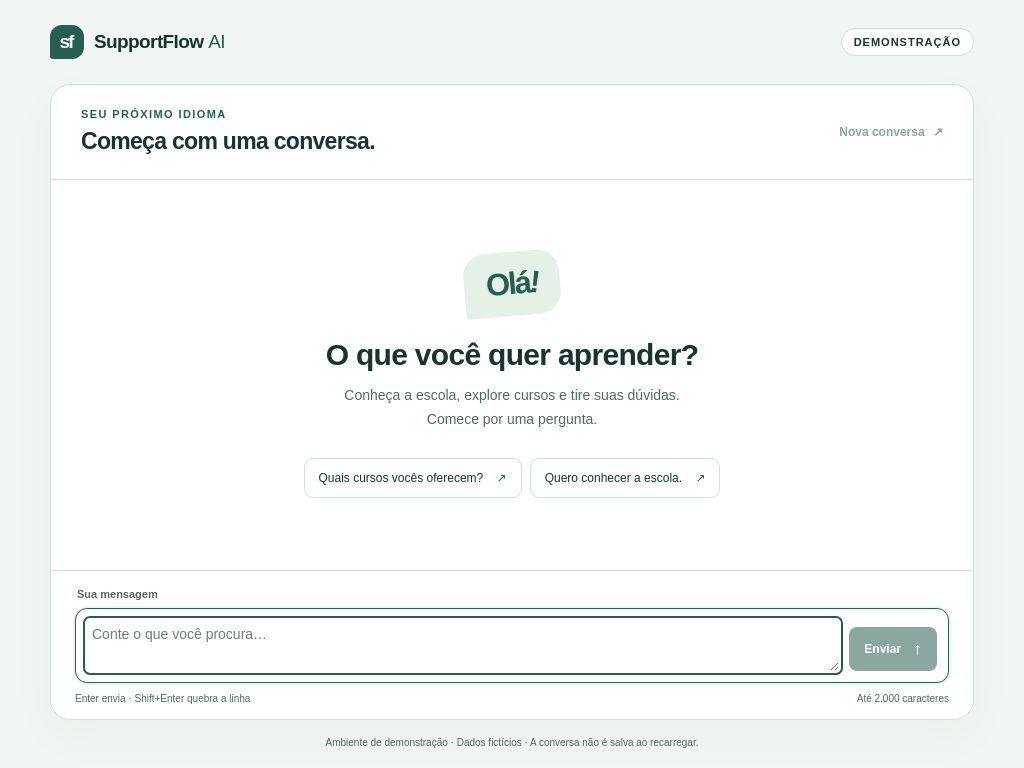
Test: chat da escola › bloqueia botão, campo, nova conversa e submits simultâneos durante processamento
Step 1. Type "Olá" into the text box labelled "Sua mensagem" → (463, 646), box [87, 620, 839, 671]
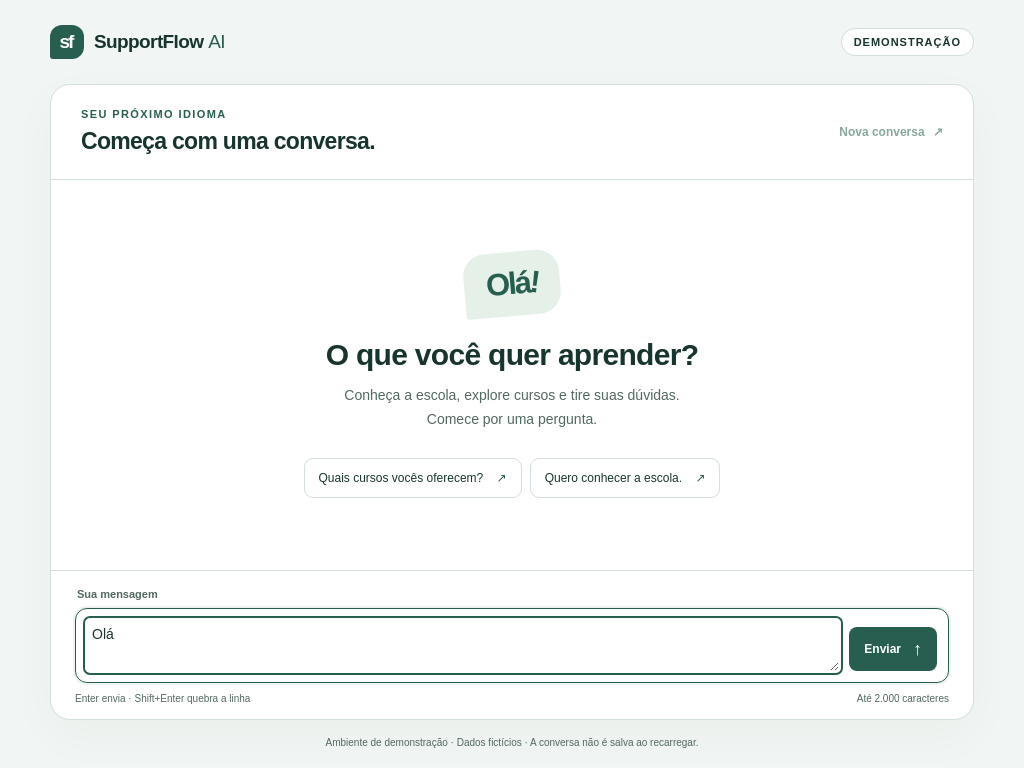
Step 2. Click the button "Enviar ↑" → (893, 649), box [849, 627, 937, 671]
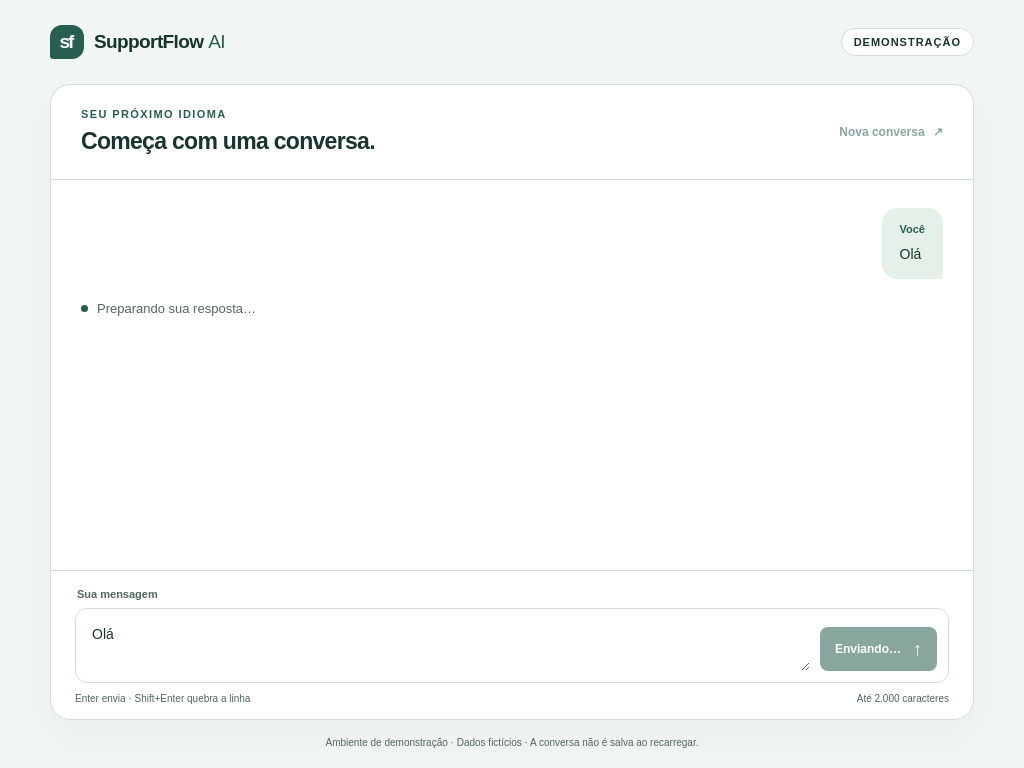
Check: the text box labelled "Sua mensagem" is disabled, box [87, 620, 810, 671]
Check: the message shows "Preparando sua resposta", box [97, 301, 256, 316]
Check: the button "Enviando… ↑" is disabled, box [820, 627, 937, 671]
Step 3. Submit the form named "Enviar mensagem", box [75, 588, 949, 704]
Step 4. Submit the form named "Enviar mensagem", box [75, 588, 949, 704]
Step 5. Press Enter Enter
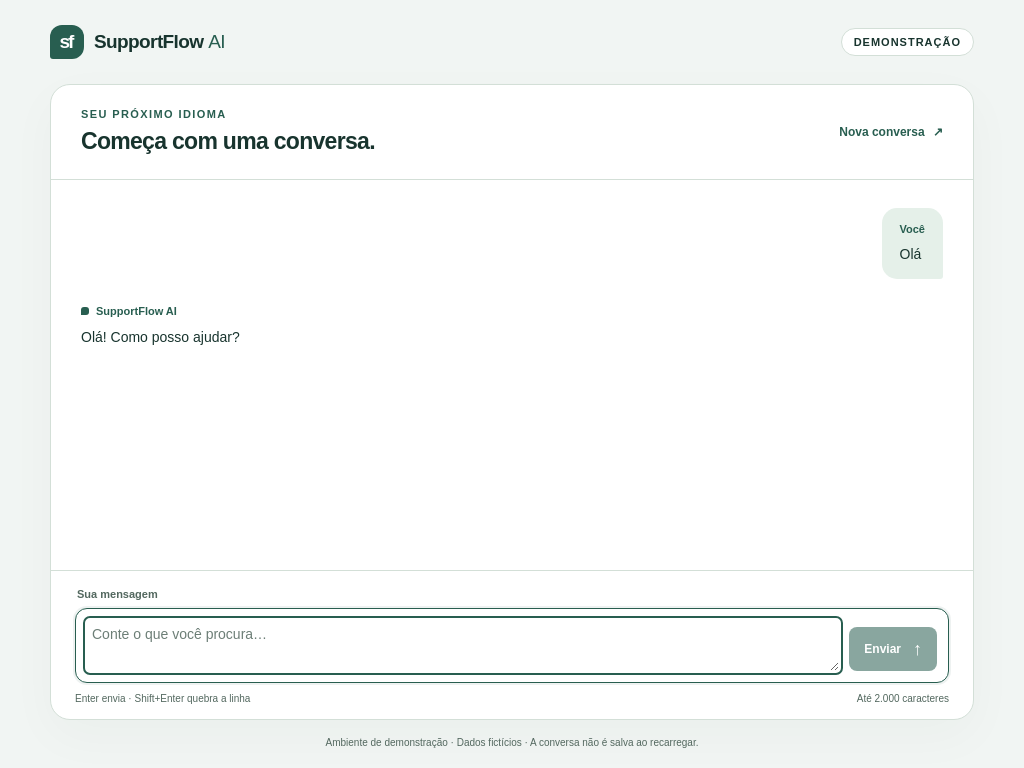
Check: the text "Olá! Como posso ajudar?" is shown, box [81, 329, 240, 345]
Check: the text box labelled "Sua mensagem" is enabled, box [87, 620, 839, 671]
Check: the message "Preparando sua resposta…" is gone
